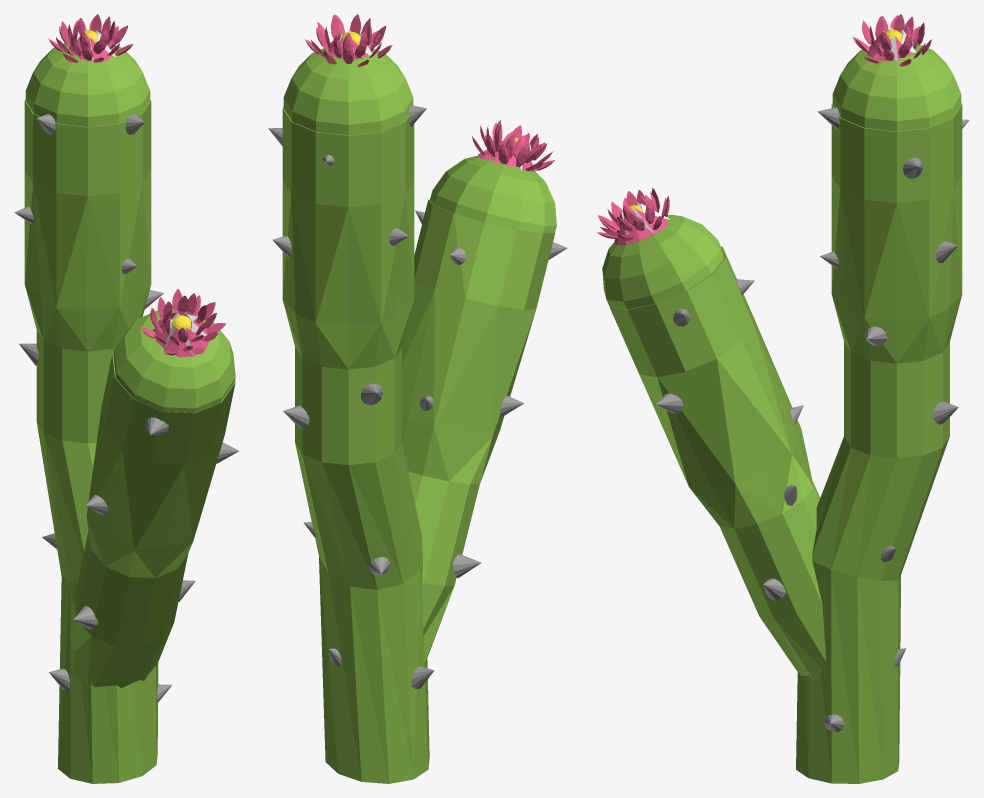
The picture shows the model from 3 angles, left to right: view 1: azimuth 30°, elevation 25°; view 2: azimuth 150°, elevation 25°; view 3: azimuth 270°, elevation 25°; orthographic projection. The views are drawn at different scales.
Visible parts, largest first — view 1: default; view 2: default; view 3: default.
Part boxes in pixels (x1=…): default: x1=14, y1=14, x2=238, y2=783; default: x1=268, y1=14, x2=567, y2=783; default: x1=597, y1=14, x2=969, y2=783.
Bounding box in the file's own units: 0.1391 × 0.6323 × 0.2858.
